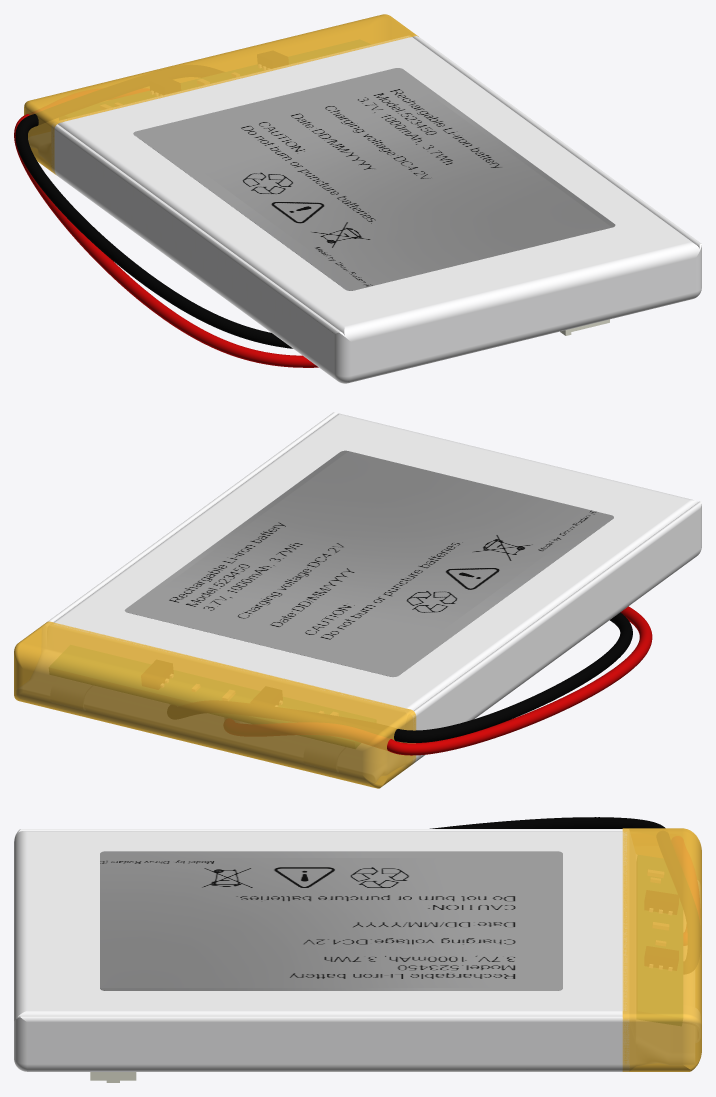
The model's file is battery_with_uv.glb.
3 views of the same model, one above another, from view 1: azimuth 30°, elevation 25°; view 2: azimuth 150°, elevation 25°; view 3: azimuth 270°, elevation 25° (orthographic). The views are drawn at different scales.
Visible parts, largest first — view 1: 1000mah Battery Body_Part 1:1, Battery Sticker:1, 1000mah Battery Body_Part 2:1, Battry Wire Red:1_ced663, Battry Wire Red:1_b474e4; view 2: Battery Sticker:1, 1000mah Battery Body_Part 1:1, 1000mah Battery Body_Part 2:1, Battry Wire Red:1_b474e4, Battry Wire Red:1_ced663; view 3: 1000mah Battery Body_Part 1:1, Battery Sticker:1, 1000mah Battery Body_Part 2:1, Battry Wire Red:1_ced663, JST 2 Pin 1.5mm:1.
Boxes of the visible parts, x1,y1,x2,y2 form: 1000mah Battery Body_Part 1:1: (51, 36, 701, 383); Battery Sticker:1: (133, 68, 615, 290); 1000mah Battery Body_Part 2:1: (24, 14, 418, 174); Battry Wire Red:1_ced663: (15, 114, 292, 348); Battry Wire Red:1_b474e4: (14, 114, 318, 367); Battery Sticker:1: (124, 450, 613, 676); 1000mah Battery Body_Part 1:1: (48, 412, 701, 764); 1000mah Battery Body_Part 2:1: (14, 621, 416, 788); Battry Wire Red:1_b474e4: (387, 606, 652, 755); Battry Wire Red:1_ced663: (394, 612, 632, 742); 1000mah Battery Body_Part 1:1: (14, 829, 629, 1071); Battery Sticker:1: (100, 851, 562, 990); 1000mah Battery Body_Part 2:1: (622, 828, 701, 1071); Battry Wire Red:1_ced663: (430, 817, 665, 828); JST 2 Pin 1.5mm:1: (90, 1072, 136, 1082).
Bounding box in the file's own units: 0.0392 × 0.00831 × 0.052.
8 materials, 1 textured.
